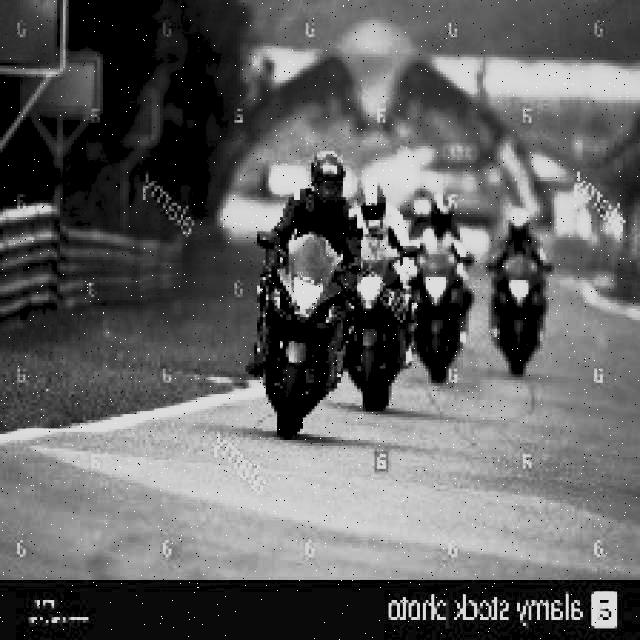Bike: (267, 222, 339, 446), (349, 248, 408, 415), (497, 242, 551, 369), (418, 255, 472, 379)
